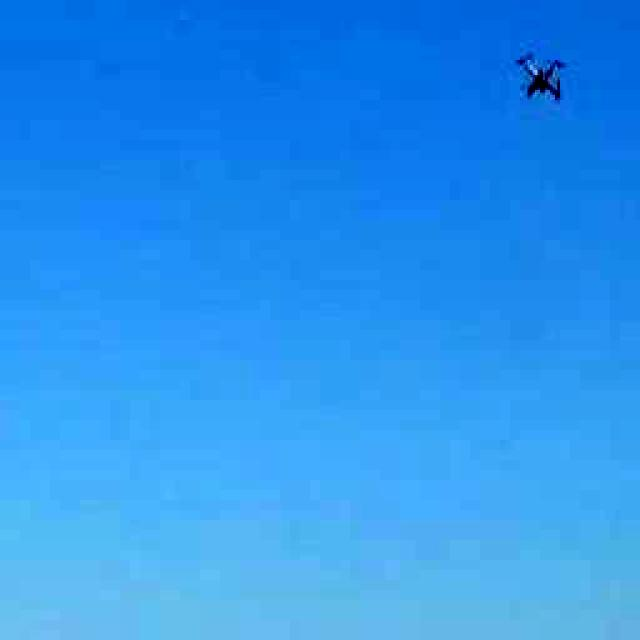bird: (502, 46, 578, 114)
